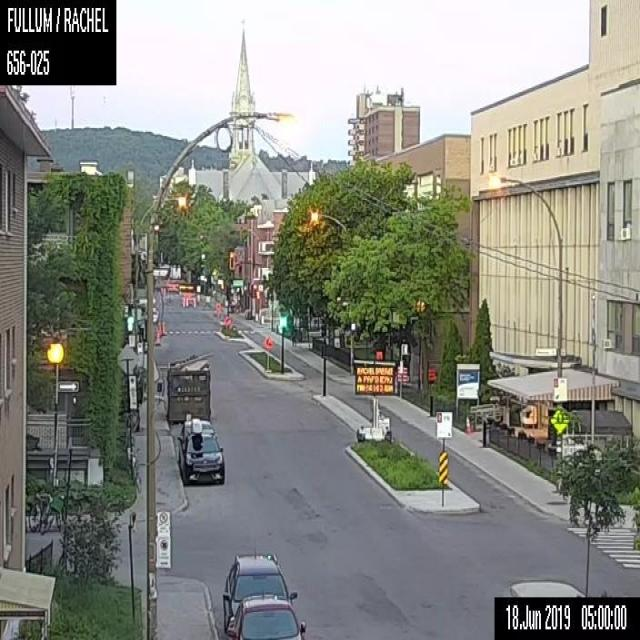construction: (354, 359, 394, 441), (262, 336, 273, 348), (401, 366, 407, 383), (428, 368, 436, 379), (154, 331, 160, 345), (465, 416, 470, 432), (396, 366, 401, 381), (375, 350, 381, 358), (225, 316, 230, 325), (157, 323, 161, 334), (181, 296, 185, 306), (192, 297, 195, 307), (185, 296, 188, 306), (162, 321, 164, 334)
pedestrian: (290, 324, 297, 346)
vehicle: (222, 553, 297, 633), (227, 596, 306, 639), (181, 418, 224, 484), (177, 419, 220, 468), (152, 306, 158, 322)
